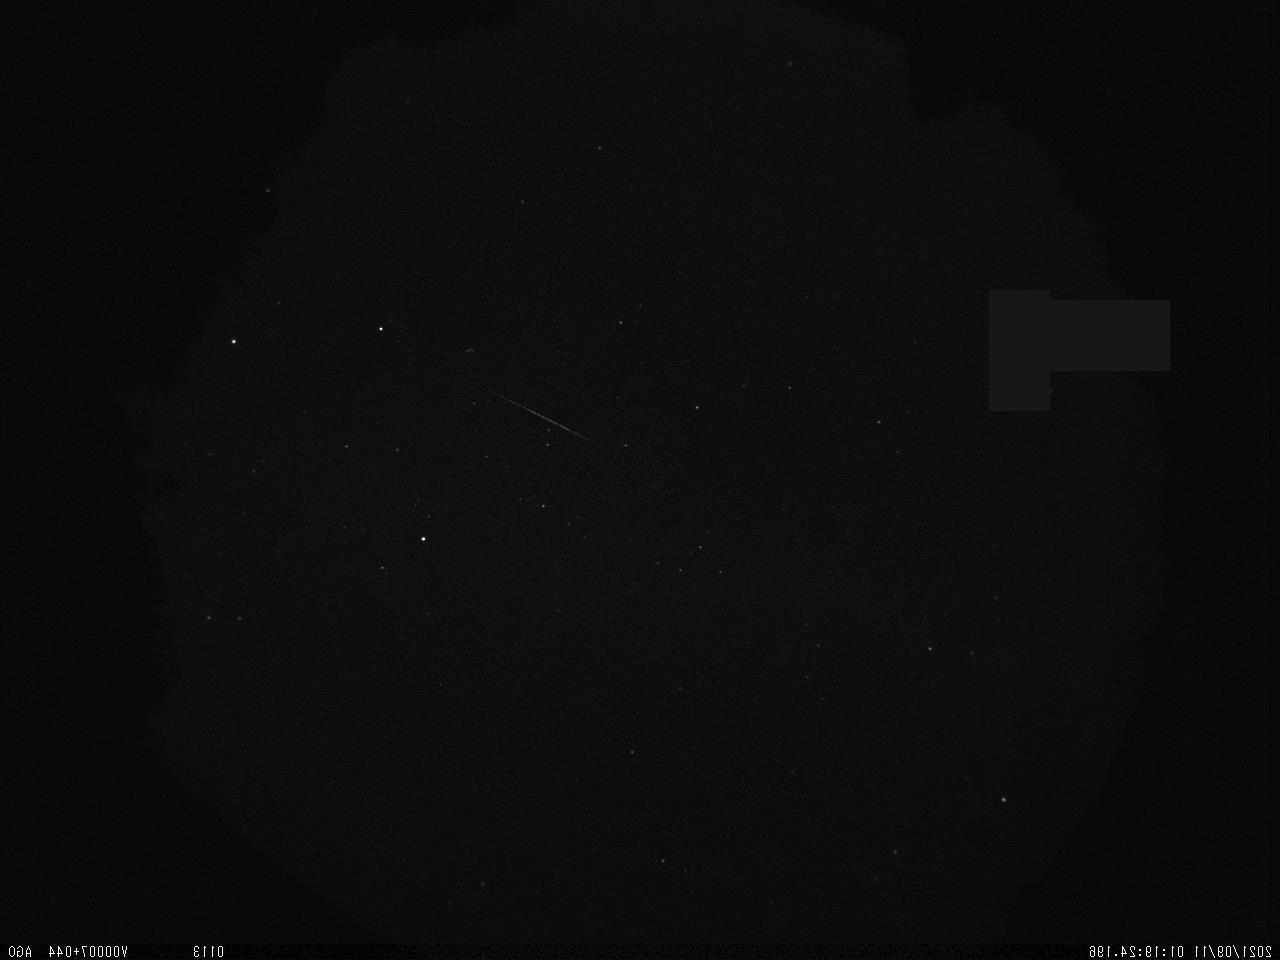meteor: (481, 375, 638, 468)
